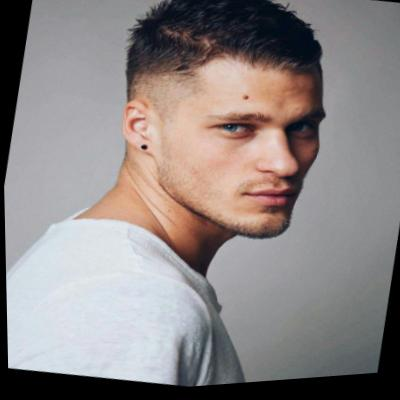netural: (144, 39, 335, 258)
